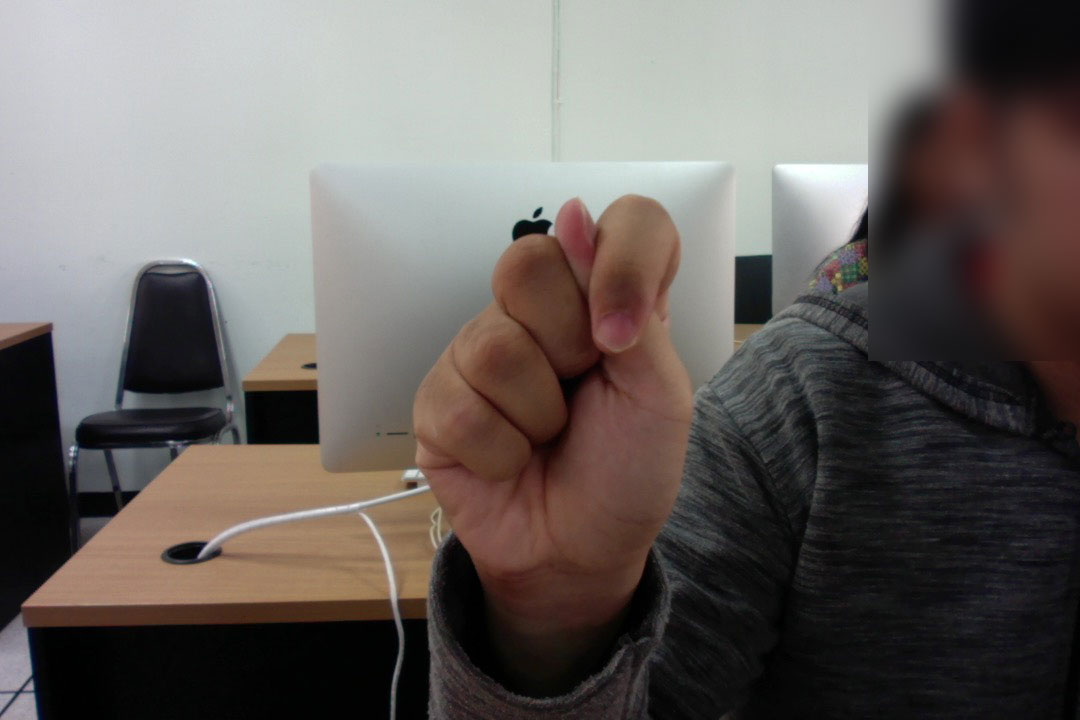tor: (407, 192, 697, 614)
